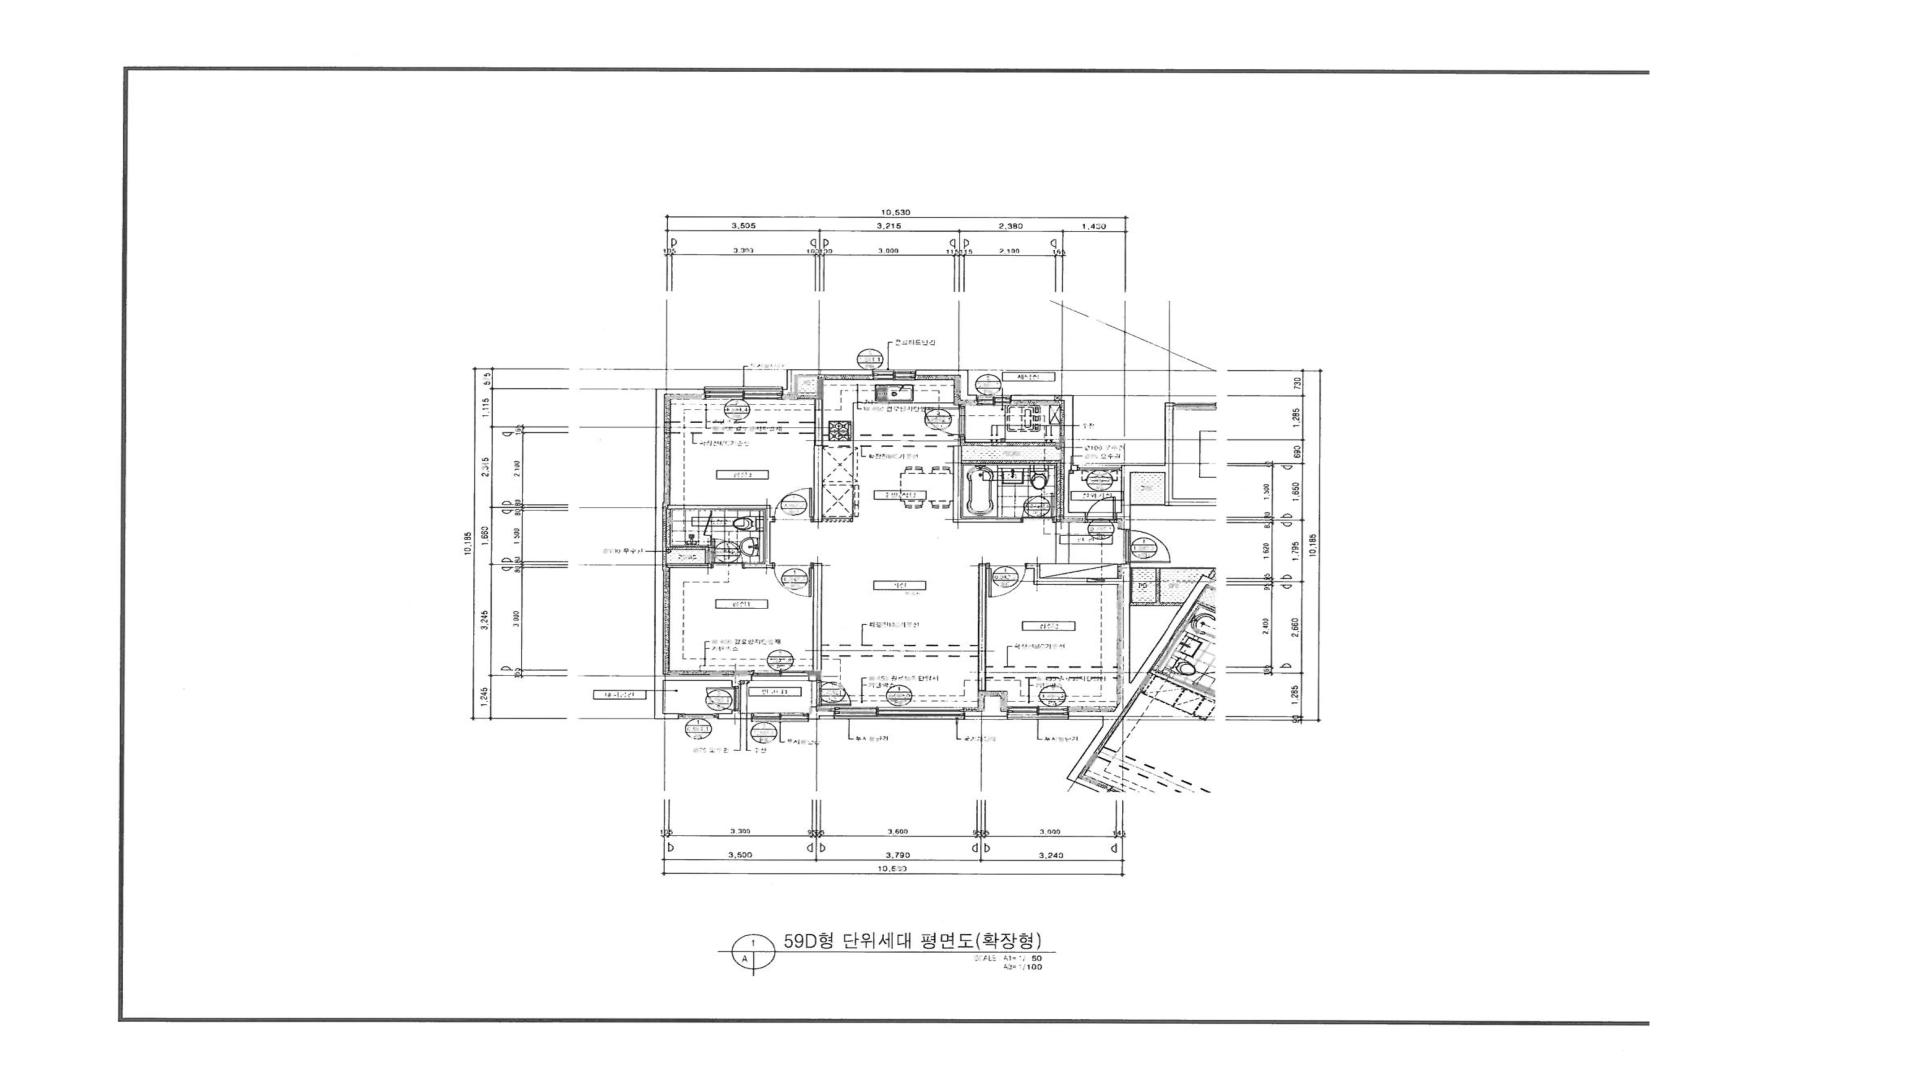door: (1126, 530, 1171, 564), (771, 562, 814, 597), (986, 563, 1027, 597), (773, 488, 814, 522), (924, 406, 965, 436), (1021, 493, 1056, 522), (712, 538, 744, 568), (816, 680, 852, 707), (705, 686, 738, 712), (1085, 496, 1117, 522), (703, 512, 712, 535)
wall: (1113, 575, 1211, 711), (654, 389, 665, 719), (1121, 564, 1130, 700), (1063, 401, 1073, 520), (812, 563, 823, 670), (978, 563, 986, 691), (1164, 402, 1174, 506), (812, 446, 823, 522), (952, 446, 961, 524), (1121, 465, 1131, 530), (663, 674, 752, 680), (1040, 578, 1121, 584), (1068, 711, 1124, 720), (798, 369, 873, 376), (814, 398, 823, 446), (667, 505, 770, 509), (964, 711, 1007, 720), (961, 460, 1060, 464), (964, 442, 1062, 446), (915, 369, 968, 376), (1174, 498, 1217, 506), (1056, 464, 1062, 522), (765, 509, 770, 563), (984, 695, 1001, 711), (1131, 465, 1164, 473), (666, 563, 712, 568), (961, 518, 1021, 522), (786, 369, 798, 389), (1011, 396, 1054, 401), (1130, 603, 1184, 607), (665, 389, 704, 394), (960, 376, 968, 401), (1155, 568, 1160, 603), (719, 713, 752, 719), (666, 509, 670, 550), (808, 707, 820, 720), (783, 389, 798, 400), (671, 546, 709, 550), (819, 711, 835, 720), (744, 563, 771, 568), (818, 375, 823, 398), (823, 518, 853, 522), (1034, 568, 1040, 585), (1130, 567, 1216, 568), (1069, 512, 1085, 518), (663, 713, 678, 719), (1060, 396, 1073, 401), (1027, 563, 1040, 568), (968, 394, 977, 401), (1116, 512, 1122, 520), (705, 550, 709, 563), (808, 675, 816, 682), (798, 396, 818, 398), (1130, 504, 1164, 505), (960, 436, 964, 446), (732, 680, 738, 686), (1073, 465, 1077, 471), (770, 517, 773, 522), (732, 712, 741, 713)
window: (833, 707, 964, 720), (704, 386, 783, 400), (1007, 707, 1068, 720), (752, 670, 808, 682), (752, 713, 808, 721), (873, 369, 915, 380), (977, 396, 1011, 405), (1077, 464, 1121, 471), (678, 713, 719, 719), (1054, 396, 1060, 401)
